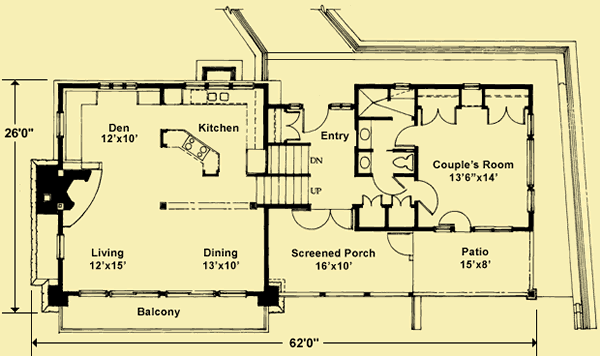door: (293, 208, 354, 232), (415, 179, 440, 218), (438, 209, 474, 235), (300, 103, 329, 135), (418, 106, 458, 128), (483, 106, 526, 126), (371, 175, 410, 196), (385, 232, 412, 259), (284, 111, 302, 144), (391, 125, 416, 147), (360, 193, 383, 209)
kitchen_bar: (159, 126, 224, 178)
small_sink: (356, 120, 374, 152), (358, 152, 371, 173)
stairs: (250, 142, 314, 213)
window: (75, 284, 164, 301), (164, 289, 246, 301), (527, 111, 535, 217), (183, 79, 254, 90), (53, 109, 68, 141), (54, 232, 67, 267), (94, 80, 139, 90), (391, 79, 413, 92), (460, 80, 483, 91)
